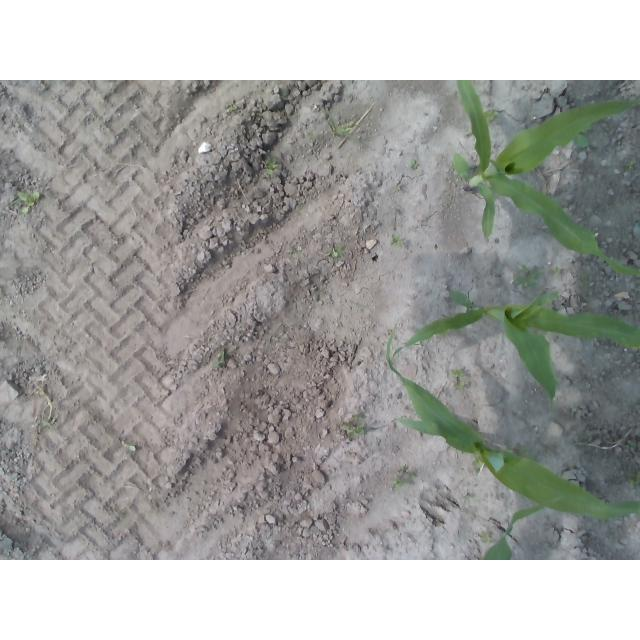Maize: (383, 323, 640, 519), (452, 80, 640, 278), (389, 291, 640, 402), (470, 500, 563, 561)
Weeds: (328, 100, 373, 149), (514, 263, 543, 289), (568, 122, 593, 148), (342, 414, 367, 438), (506, 444, 539, 462), (392, 467, 417, 489), (17, 191, 40, 214), (450, 368, 467, 389), (211, 350, 225, 368), (626, 470, 640, 487), (483, 108, 499, 122), (265, 158, 278, 175), (328, 245, 343, 259), (390, 234, 404, 247), (480, 530, 493, 542), (580, 272, 592, 284), (625, 440, 636, 453), (624, 159, 637, 169), (549, 266, 564, 274), (124, 443, 137, 452), (226, 101, 235, 113), (411, 159, 420, 170), (42, 421, 52, 428), (308, 130, 316, 138), (396, 185, 401, 191)
